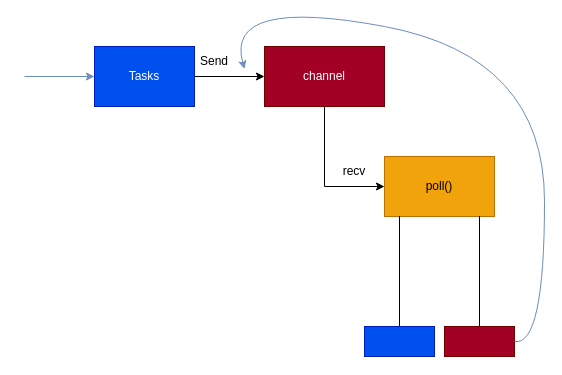
This 562x375 diagram has some shape labels left out. Each missing label, with the centre of its shape:
"Poll::Pending" goes at [479,341].
"Poll::Ready()" goes at [399,341].
